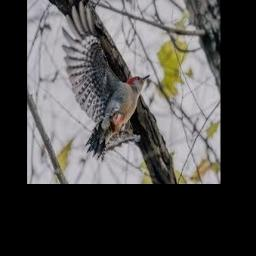Woodpecker: (62, 0, 150, 160)
